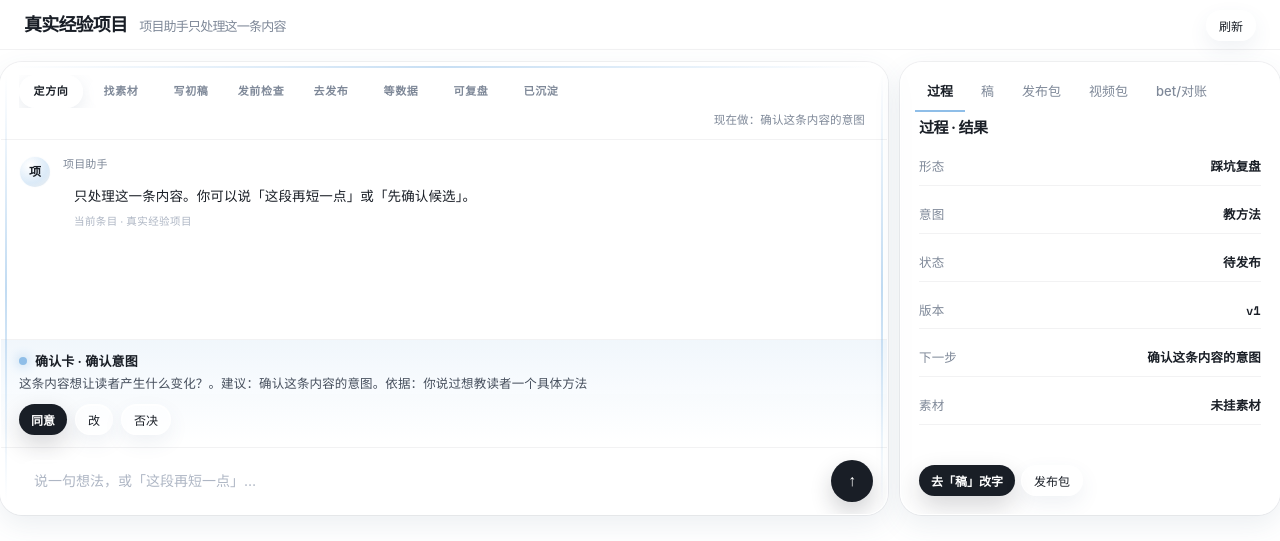
it: ProjectStagePage › falls back to an honest answer when the model returns nothing
Type "在吗" into the field named "对项目助手说话".
click(418, 481); type("在吗")  # box [15,460,821,501]
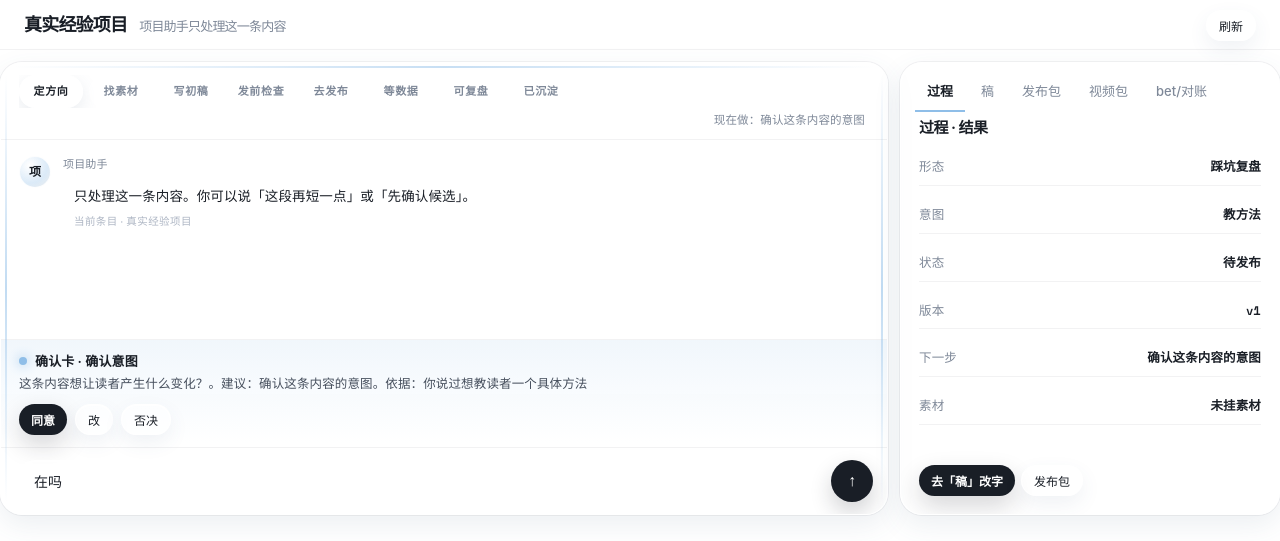
Press Enter in the field named "对项目助手说话", box [15,460,821,501]
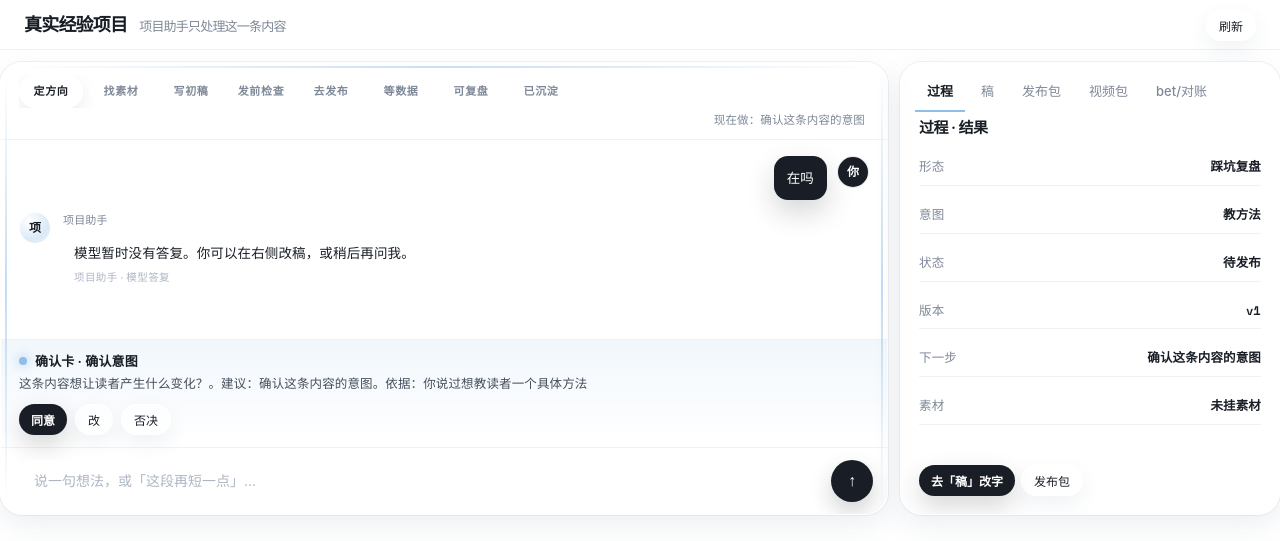
Now the text "模型暂时没有答复。你可以在右侧改稿，或稍后再问我。" is shown, box [74,242,415,264]
